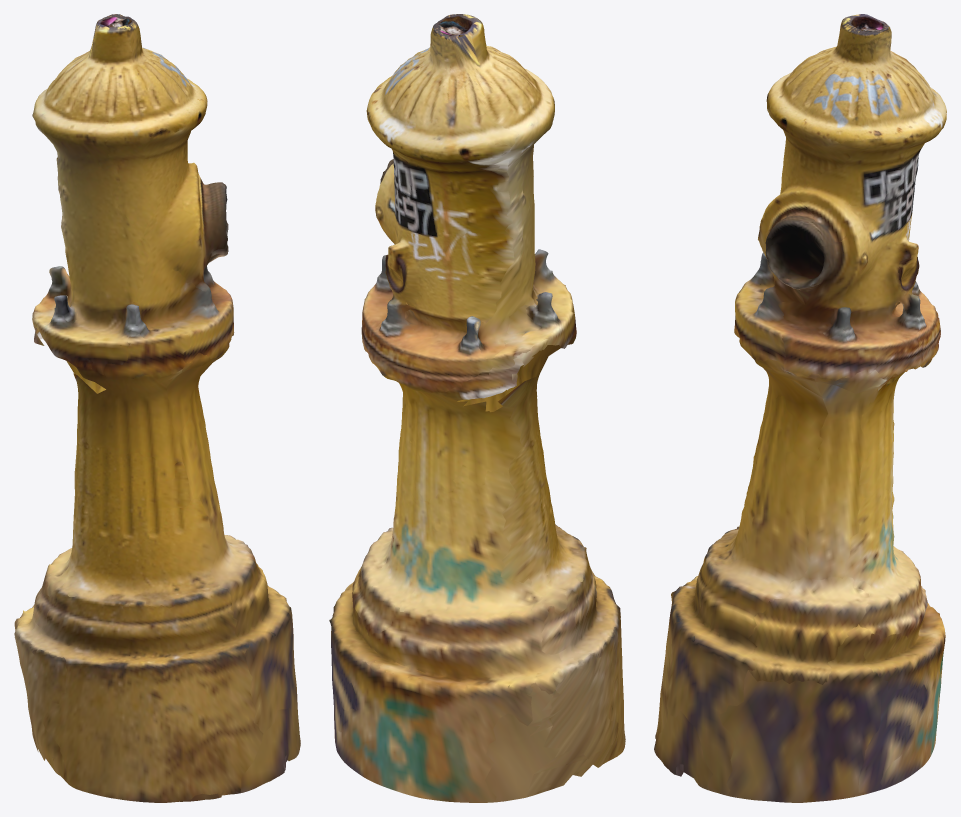
Rendered from water-tap.glb.
3 views of the same model, side by side, from view 1: azimuth 30°, elevation 25°; view 2: azimuth 150°, elevation 25°; view 3: azimuth 270°, elevation 25° (orthographic). The views are drawn at different scales.
Visible parts, largest first — view 1: Object_2; view 2: Object_2; view 3: Object_2.
Part boxes in pixels (bbox=[...]): Object_2: bbox=[14, 14, 300, 802]; Object_2: bbox=[329, 14, 625, 802]; Object_2: bbox=[654, 14, 946, 802].
Size of the model in its own units: 0.3081 by 0.859 by 0.3181.
1 material, 1 textured.
